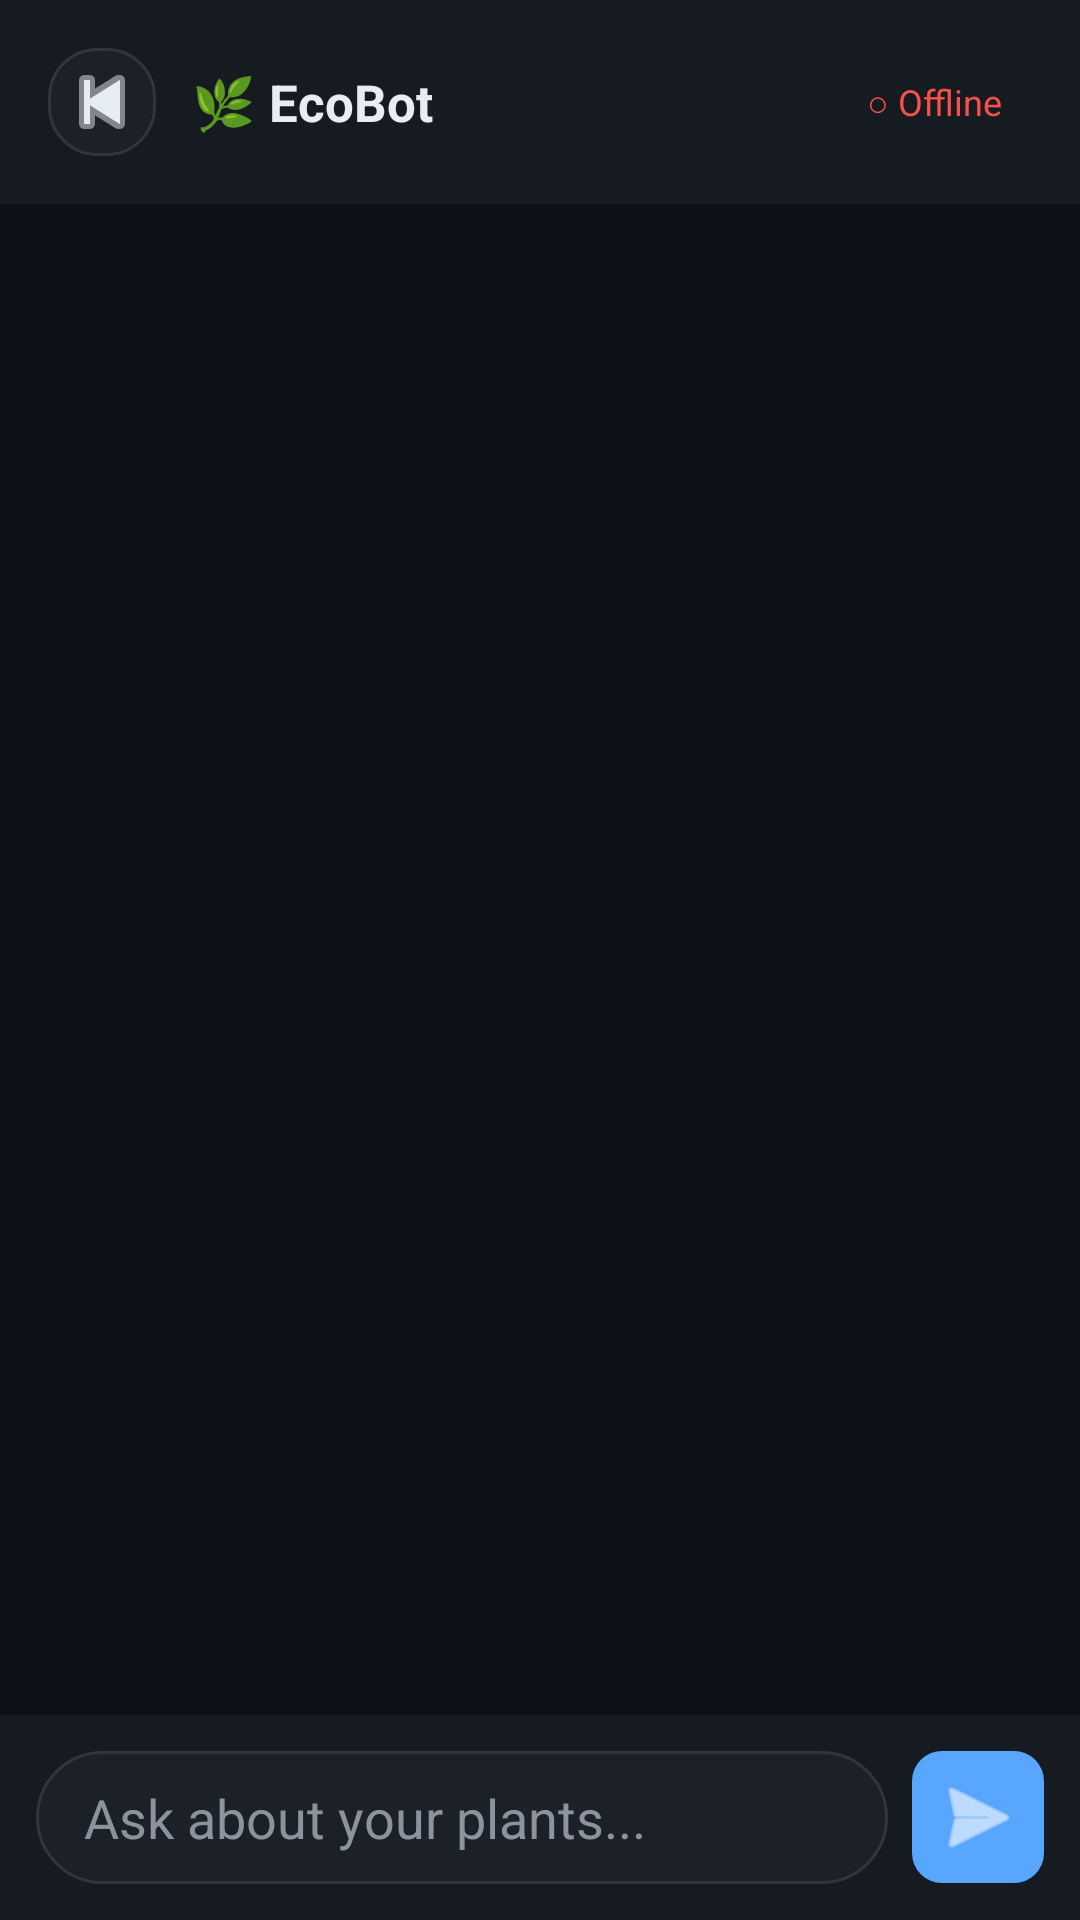

Screen size 1080*1920. Icon name, then its box in pixels as [x1=x1, y1=y1, x2=x2, y2=y2]:
previous: [x1=48, y1=48, x2=156, y2=156]
send: [x1=912, y1=1751, x2=1044, y2=1883]
